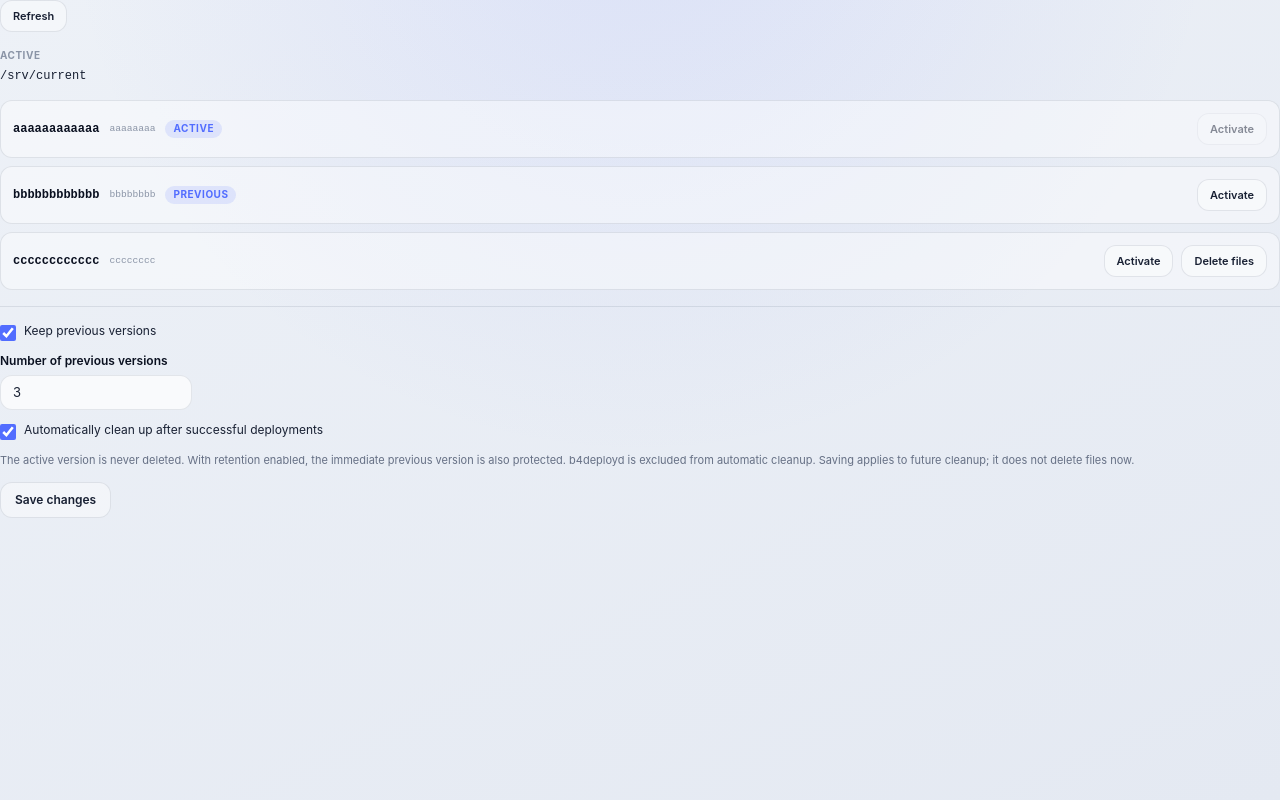
Test case: ReleasePanel › keeps the dialog open and shows the error when an operation fails
Expected: the text "cccccccccccc" is shown, [13,253,99,269]
Step 1. Click the button "Delete files" → click(1224, 261), box [1182,245,1267,277]
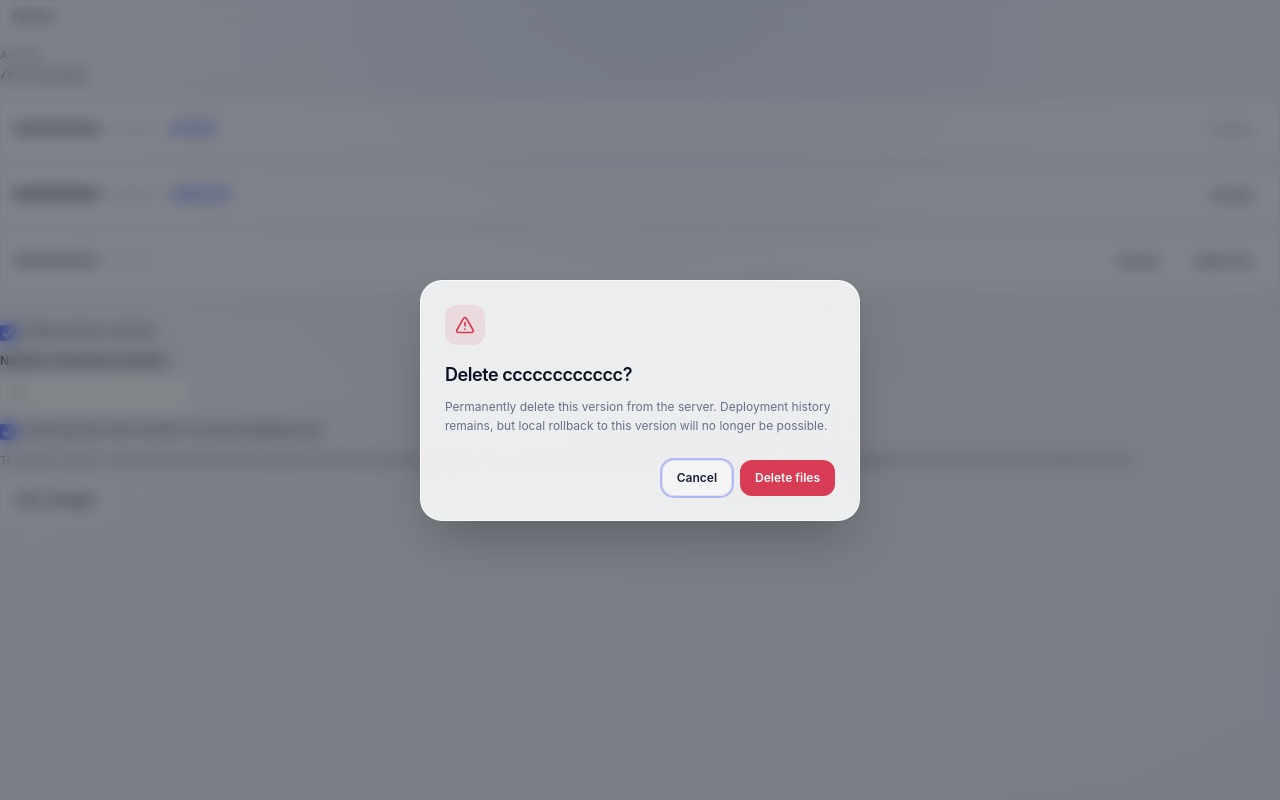
Step 2. Click the button "Delete files" below "Delete cccccccccccc?" → click(788, 478), box [740,460,835,496]
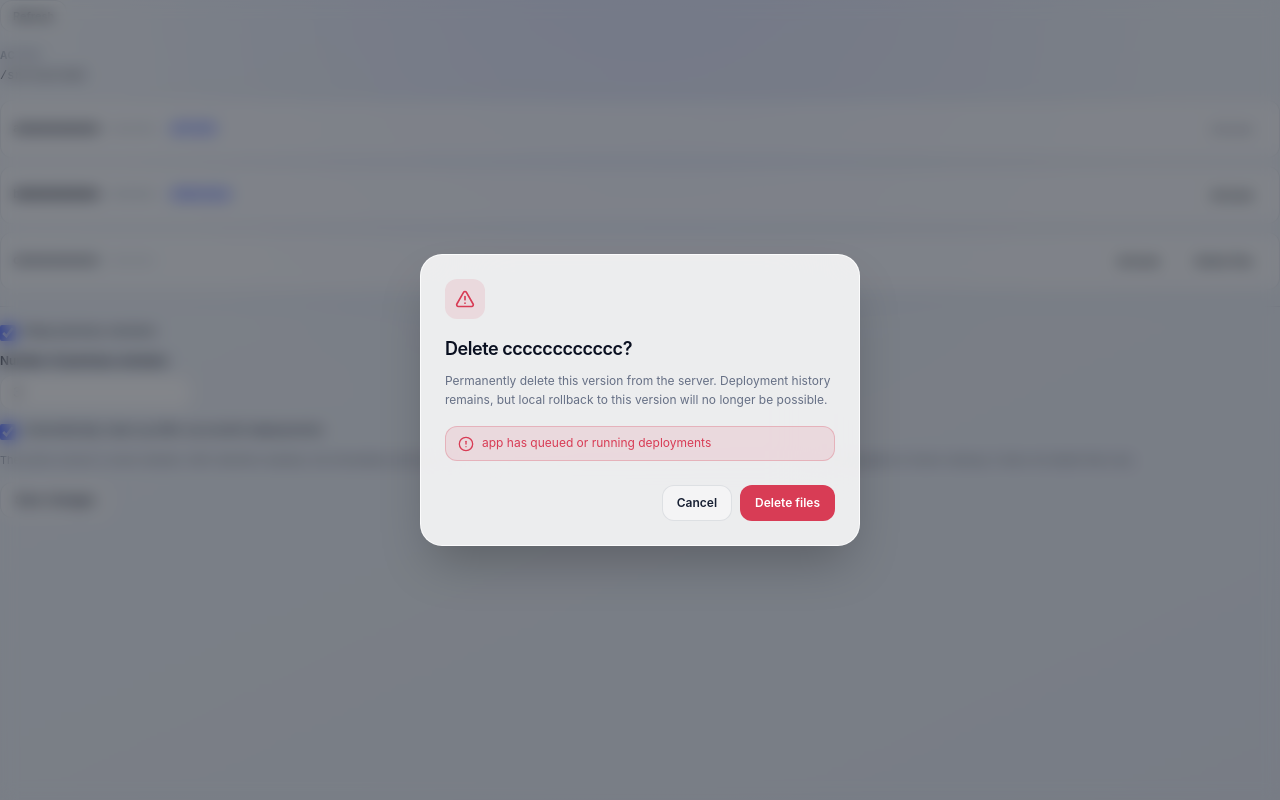
Now the dialog is shown, box [420,254,860,546]
Now the button "Delete files" below "app has queued or running deployments" is enabled, box [740,485,835,521]
Now the message shows "queued or running", box [482,435,711,450]
